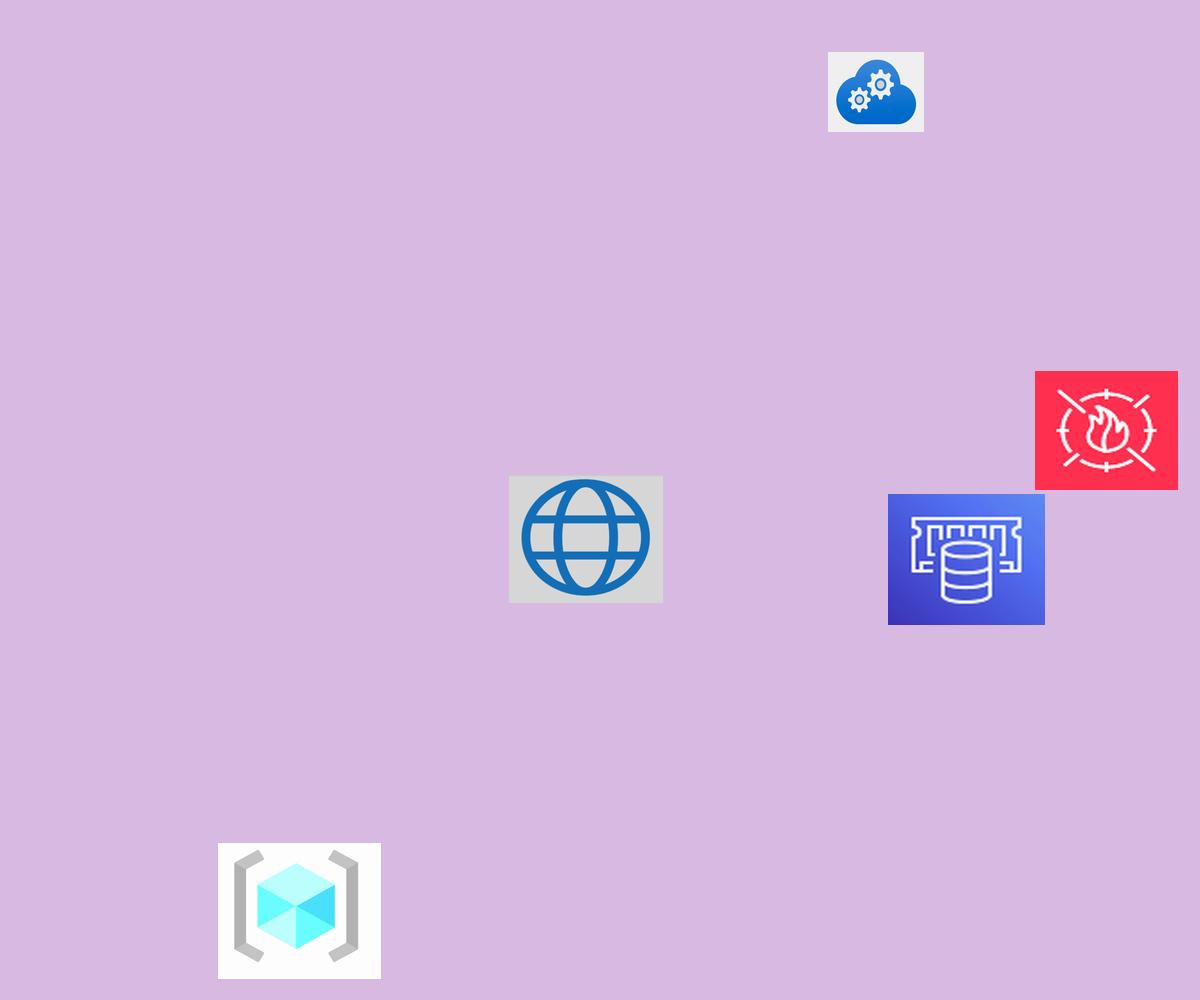AWS-ElastiCache: (888, 494, 1045, 625)
AWS-WAF: (1035, 371, 1178, 490)
Azure_cloud_services: (828, 52, 924, 132)
Azure_http: (509, 475, 663, 603)
Azure_resource_group: (218, 843, 381, 979)
